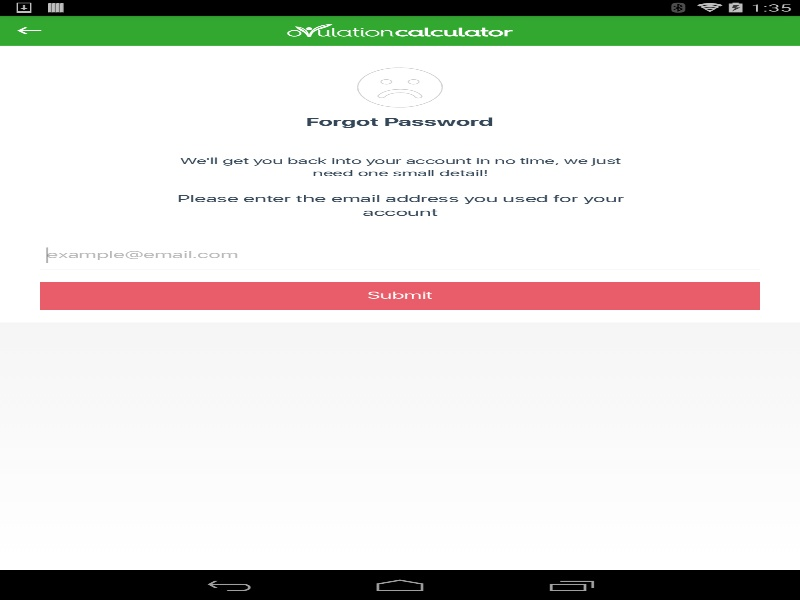Button: (40, 281, 760, 310), (0, 15, 58, 45)
Input: (40, 241, 760, 269)
